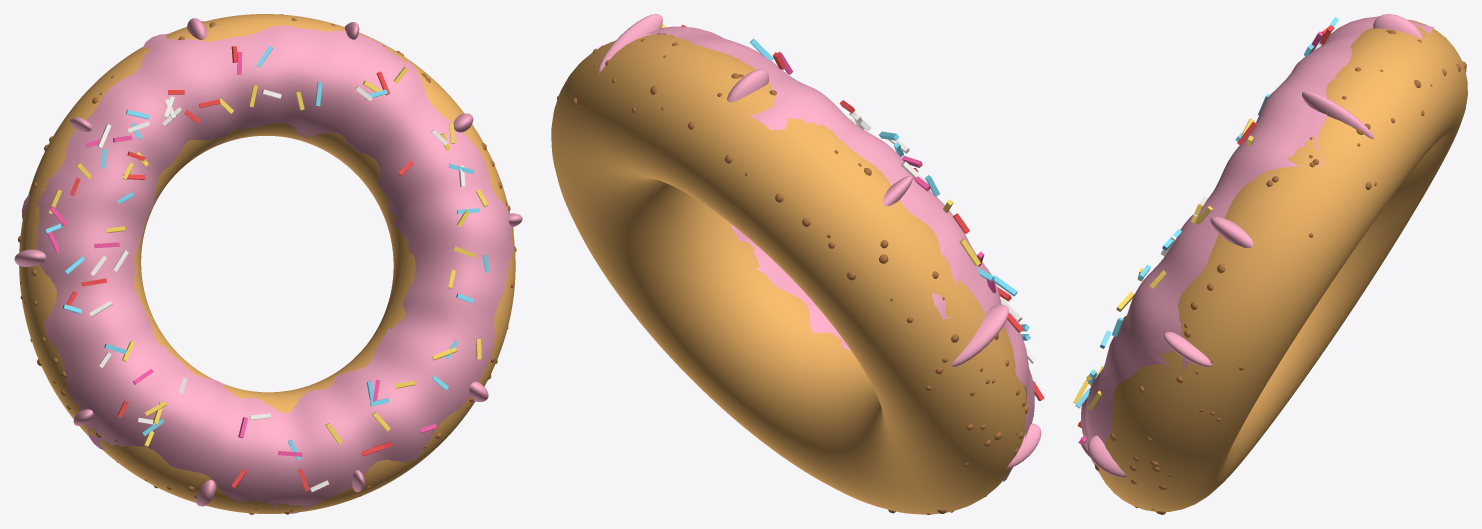
File: rotating_angled_donut.glb
3 renders of one model, left to right at view 1: azimuth 30°, elevation 25°; view 2: azimuth 150°, elevation 25°; view 3: azimuth 270°, elevation 25°, orthographic. The views are drawn at different scales.
Visible parts, largest first — view 1: wavy_pink_icing, golden_donut_body; view 2: golden_donut_body, wavy_pink_icing, rounded_icing_drip_6, rounded_icing_drip_3, rounded_icing_drip_4, rounded_icing_drip_7; view 3: golden_donut_body, wavy_pink_icing, rounded_icing_drip_3, rounded_icing_drip_10, rounded_icing_drip_1, rounded_icing_drip_2, rounded_icing_drip_4.
Part boxes in pixels (bbox=[...]): wavy_pink_icing: bbox=[22, 25, 514, 513]; golden_donut_body: bbox=[19, 14, 515, 513]; golden_donut_body: bbox=[551, 34, 1026, 514]; wavy_pink_icing: bbox=[590, 26, 1034, 481]; rounded_icing_drip_6: bbox=[952, 304, 1008, 366]; rounded_icing_drip_3: bbox=[598, 14, 662, 73]; rounded_icing_drip_4: bbox=[727, 69, 768, 102]; rounded_icing_drip_7: bbox=[1006, 423, 1041, 468]; golden_donut_body: bbox=[1098, 19, 1467, 511]; wavy_pink_icing: bbox=[1081, 16, 1434, 472]; rounded_icing_drip_3: bbox=[1302, 91, 1373, 139]; rounded_icing_drip_10: bbox=[1088, 435, 1126, 477]; rounded_icing_drip_1: bbox=[1163, 331, 1212, 366]; rounded_icing_drip_2: bbox=[1210, 216, 1253, 247]; rounded_icing_drip_4: bbox=[1373, 14, 1423, 38].
Size of the model in its own units: 3.07 by 2.88 by 2.18.
